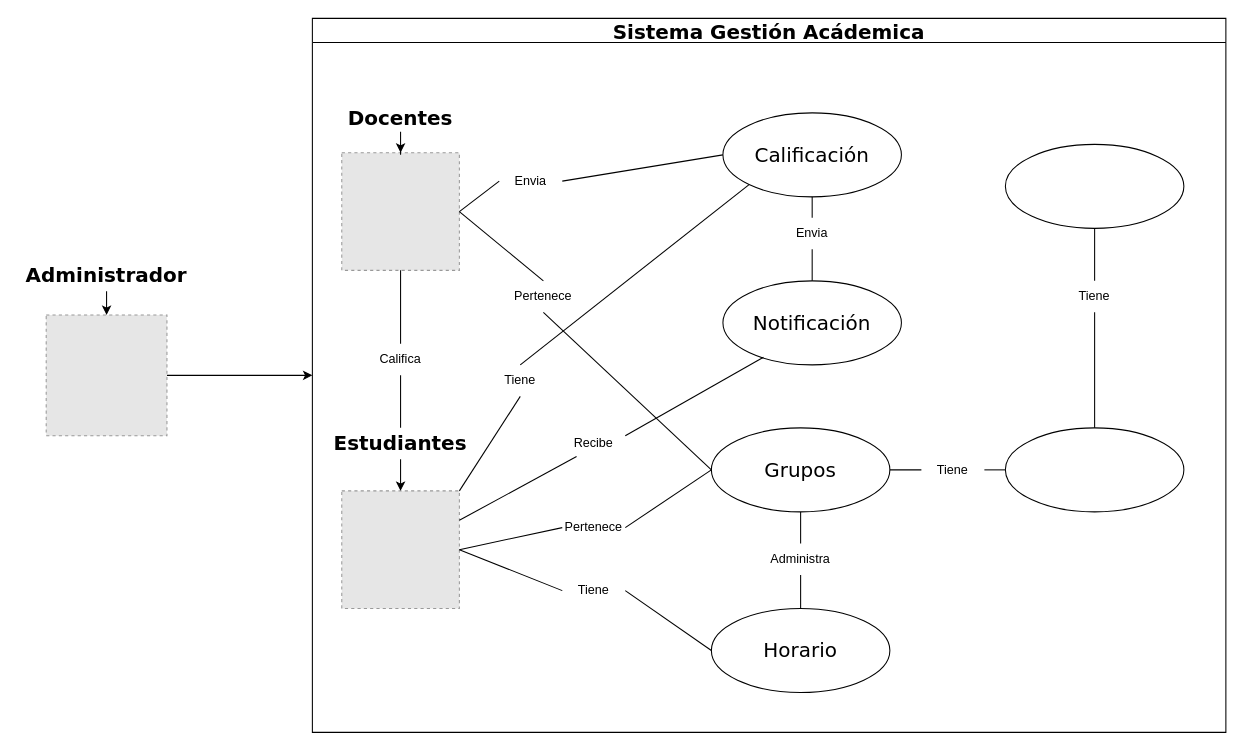
The diagram is 1244 pixels wide and 751 high, and some of its shapes have lost their labels. Grey dashed boxes stand in for pictures. The centre of each missing label's shape, as x and y in pixels:
"Asignaturas" belongs at pixel 1094 469.
"Programa Académico" belongs at pixel 1094 185.
